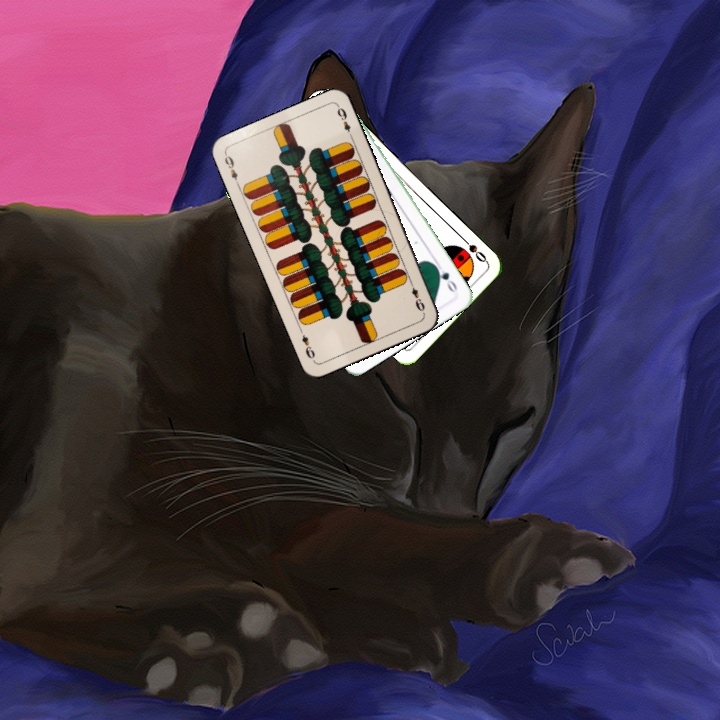E9: (406, 277, 428, 316), (220, 150, 242, 189)
GO: (431, 261, 460, 296)
SO: (457, 233, 489, 265)
